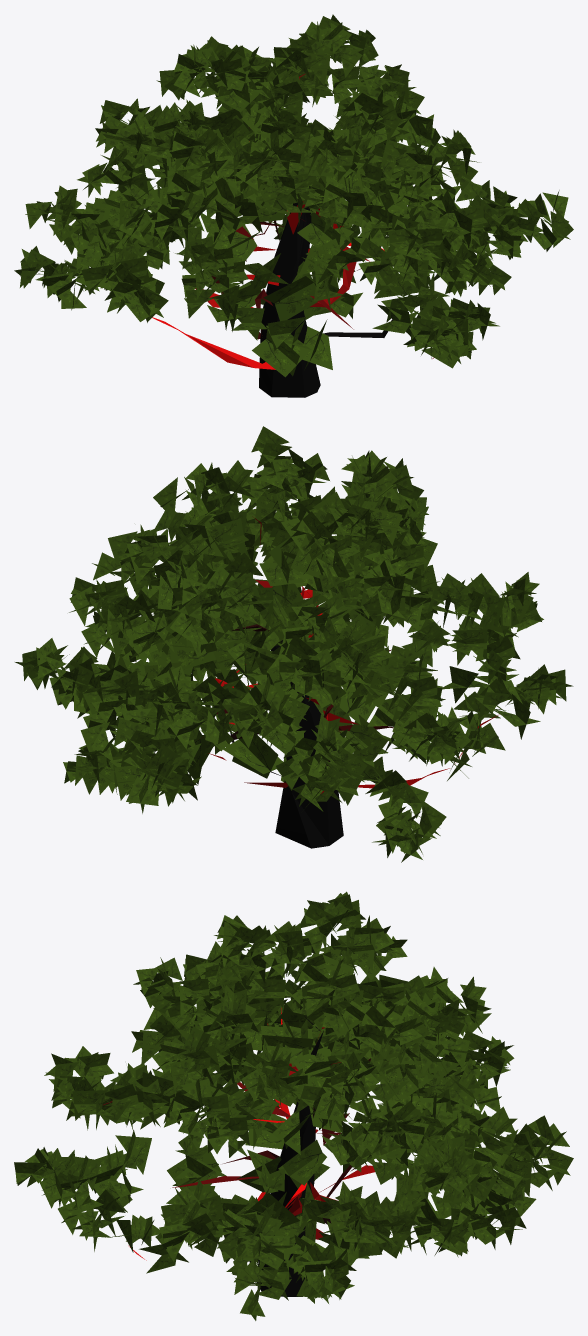
File: oak8 lod3.FBX
3 renders of one model, top to bottom at view 1: azimuth 30°, elevation 25°; view 2: azimuth 150°, elevation 25°; view 3: azimuth 270°, elevation 25°, orthographic. The views are drawn at different scales.
Visible parts, largest first — view 1: oak8_LOD3; view 2: oak8_LOD3; view 3: oak8_LOD3.
Boxes of the visible parts, <box> form: oak8_LOD3: <box>14,14,573,397</box>; oak8_LOD3: <box>15,426,573,862</box>; oak8_LOD3: <box>14,891,573,1320</box>.
Size of the model in its own units: 202622 by 151846 by 205503.
